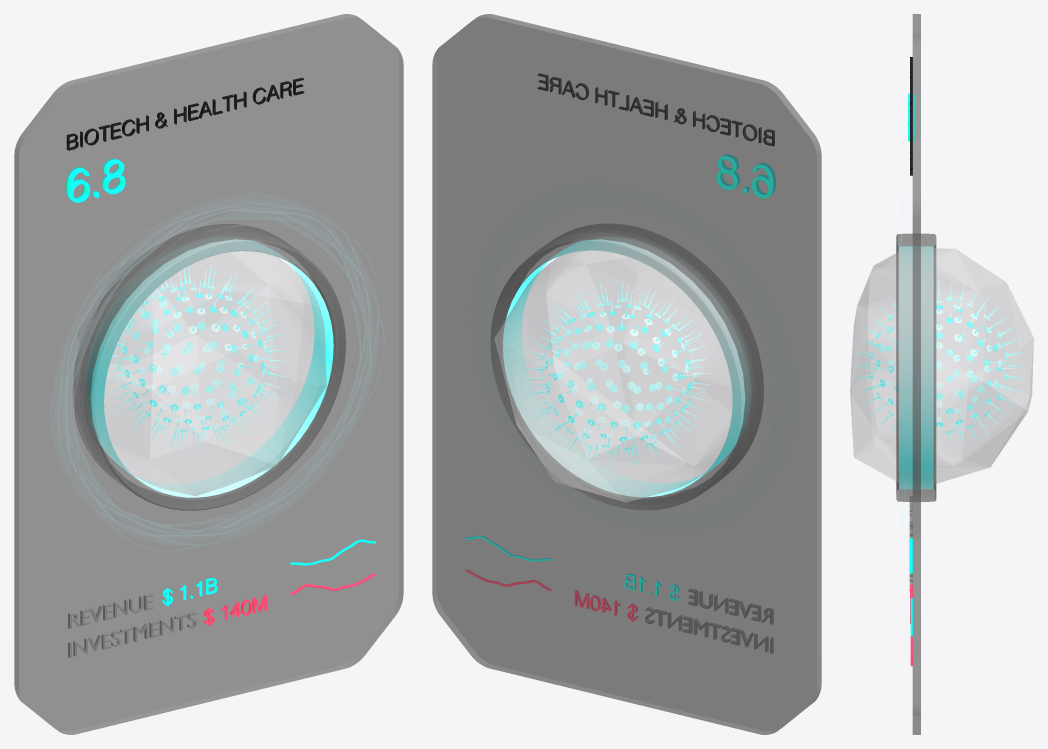
The picture shows the model from 3 angles, left to right: view 1: azimuth 30°, elevation 25°; view 2: azimuth 150°, elevation 25°; view 3: azimuth 270°, elevation 25°; orthographic projection. The views are drawn at different scales.
Parts seen in each view (by area): view 1: baseGreen.001, Glass.003, Corner.001, neon-corner.002, baseCorner.001, neon-sphereBase.001, Text.007, Text.005, neon-sphere.003, Text.001, neon-rimGreen.001, Text.003 (+1 smaller); view 2: baseGreen.001, Glass.003, Corner.001, neon-corner.002, baseCorner.001, neon-sphere.003, Text.007, Text.005, Text.001, Text.003; view 3: Glass.003, Corner.001, neon-corner.002, baseCorner.001, neon-sphere.003, neon-sphereBase.001, Text.007.
Part boxes in pixels (left/top/right/bottom): baseGreen.001: left=14, top=14, right=403, bottom=734; Glass.003: left=104, top=251, right=326, bottom=495; Corner.001: left=74, top=224, right=345, bottom=510; neon-corner.002: left=85, top=237, right=333, bottom=497; baseCorner.001: left=14, top=14, right=403, bottom=734; neon-sphereBase.001: left=117, top=282, right=270, bottom=434; Text.007: left=66, top=77, right=304, bottom=150; Text.005: left=68, top=611, right=196, bottom=657; neon-sphere.003: left=112, top=266, right=278, bottom=449; Text.001: left=66, top=158, right=125, bottom=202; neon-rimGreen.001: left=66, top=206, right=370, bottom=536; Text.003: left=68, top=593, right=153, bottom=628; baseGreen.001: left=432, top=14, right=821, bottom=734; Glass.003: left=494, top=251, right=732, bottom=502; Corner.001: left=490, top=224, right=763, bottom=510; neon-corner.002: left=503, top=237, right=750, bottom=497; baseCorner.001: left=432, top=14, right=821, bottom=734; neon-sphere.003: left=524, top=283, right=711, bottom=469; Text.007: left=537, top=73, right=774, bottom=146; Text.005: left=645, top=607, right=773, bottom=653; Text.001: left=716, top=154, right=775, bottom=198; Text.003: left=688, top=589, right=773, bottom=624; Glass.003: left=850, top=248, right=1033, bottom=483; Corner.001: left=896, top=233, right=936, bottom=501; neon-corner.002: left=899, top=246, right=933, bottom=489; baseCorner.001: left=912, top=14, right=920, bottom=734; neon-sphere.003: left=853, top=280, right=1024, bottom=451; neon-sphereBase.001: left=870, top=295, right=1007, bottom=436; Text.007: left=910, top=57, right=912, bottom=175.
Size of the model in its own units: 1.47 by 2.38 by 0.666.
Materials: 8 (1 with a texture image).
